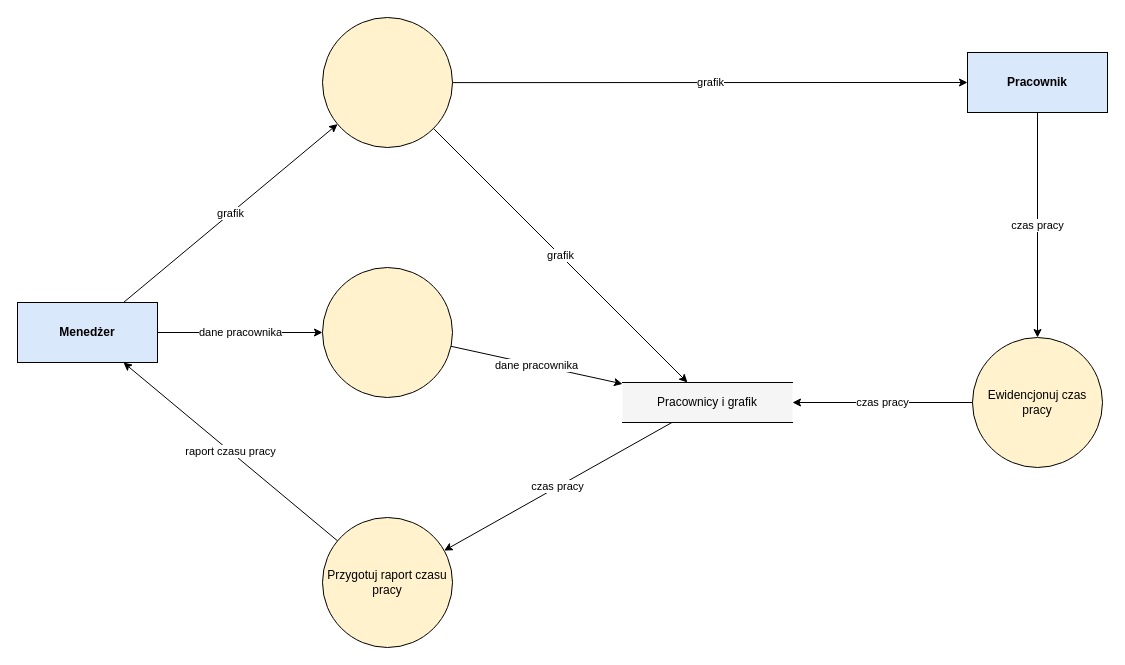
Some shapes in this 1125 by 665 pixel diagram are drawn without their labels. Each missing label, with the box of its shape:
Zapisz grafik: (322, 16, 452, 148)
Zarejestruj pracownika: (322, 266, 452, 398)
